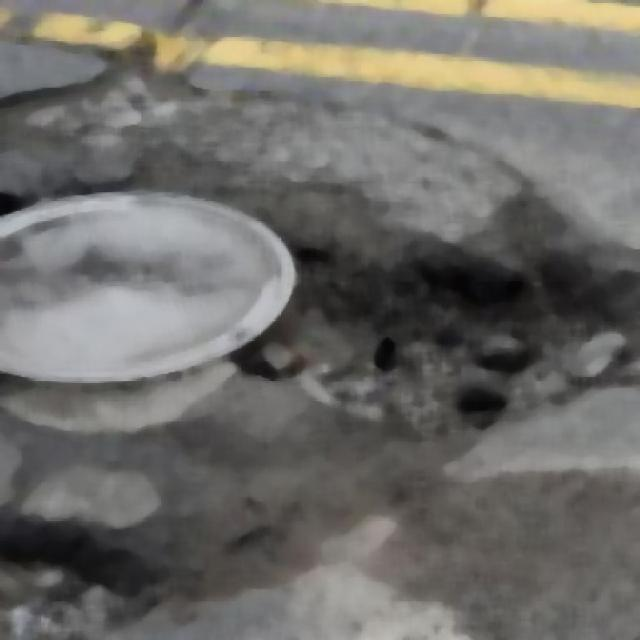Pothole: (300, 240, 622, 428)
